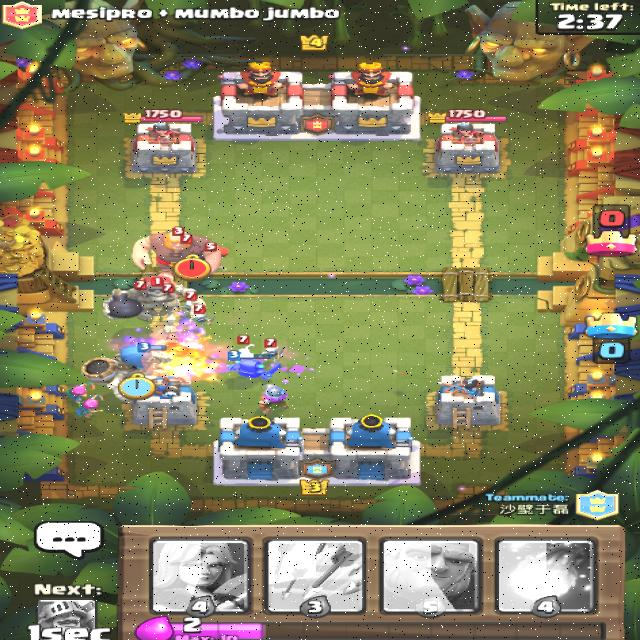Enemy-Bomber: (203, 241, 230, 258)
Enemy-Giant: (129, 225, 221, 281)
Enemy-GiantSkeleton: (100, 276, 206, 322)
Enemy-Skeleton: (187, 304, 216, 328), (259, 337, 283, 362), (182, 290, 199, 312), (234, 334, 253, 353)
Player-Archer: (73, 394, 106, 419), (61, 380, 96, 402)
Player-GiantSkeleton: (79, 341, 172, 402)
Player-MiniPEKKA: (225, 349, 281, 379)
Player-Musketeer: (255, 382, 289, 414)
